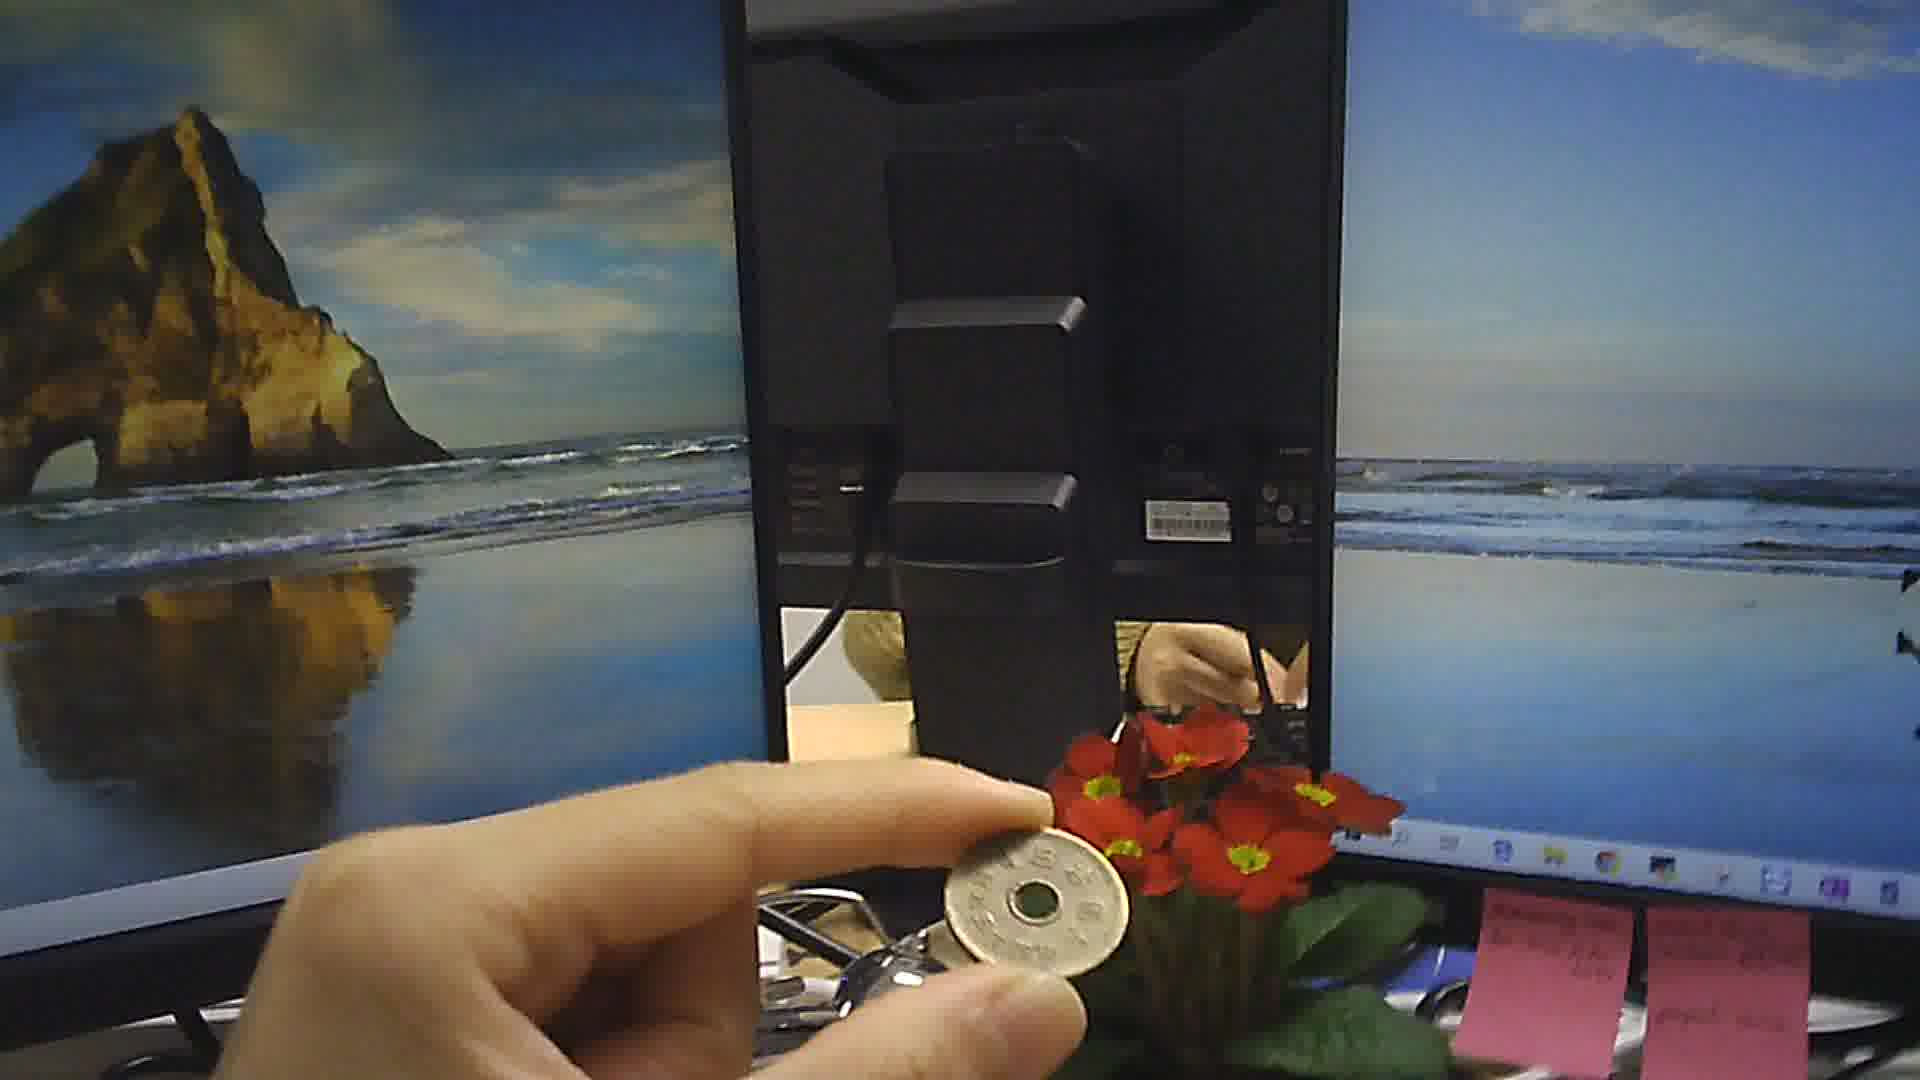5 Yen: (942, 823, 1134, 977)
